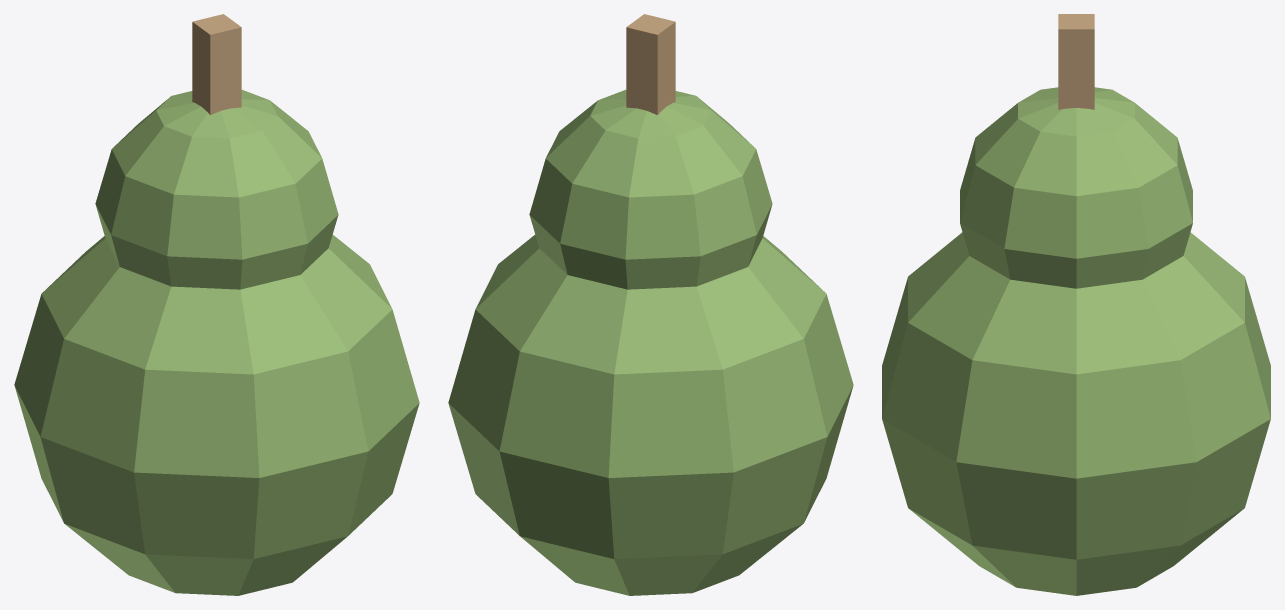
File: supermarket-operations-pear-523c3a9b__26897.glb
3 views of the same model, side by side, from view 1: azimuth 30°, elevation 25°; view 2: azimuth 150°, elevation 25°; view 3: azimuth 270°, elevation 25° (orthographic).
Parts seen in each view (by area): view 1: pear; view 2: pear; view 3: pear.
Boxes of the visible parts, box(x1,y1,x2,y2) form: pear: box(14, 14, 419, 595); pear: box(448, 14, 853, 595); pear: box(882, 14, 1270, 595).
Bounding box in the file's own units: 0.09 × 0.135 × 0.0856.
